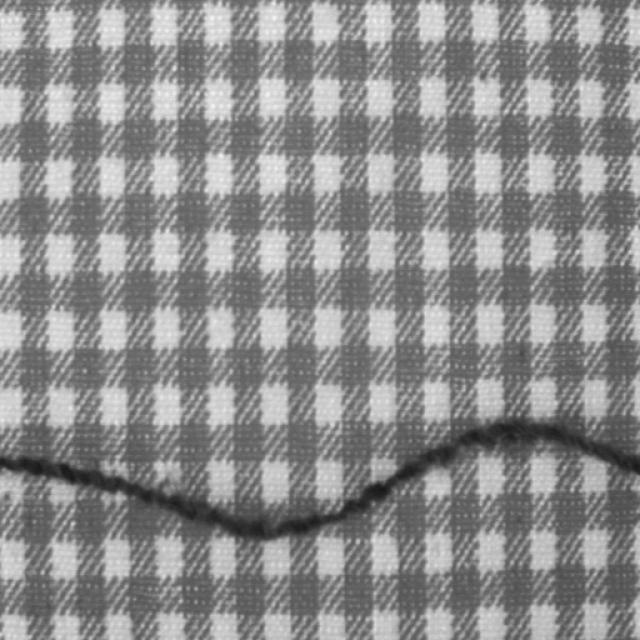Foreign-Body-Defect: (0, 418, 639, 540)
